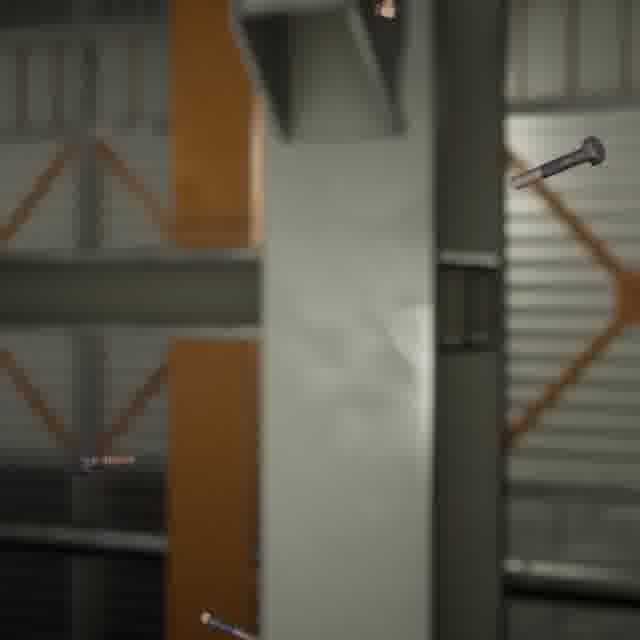bolt: (506, 131, 609, 194), (193, 603, 270, 640), (66, 443, 140, 479), (369, 0, 405, 23)
